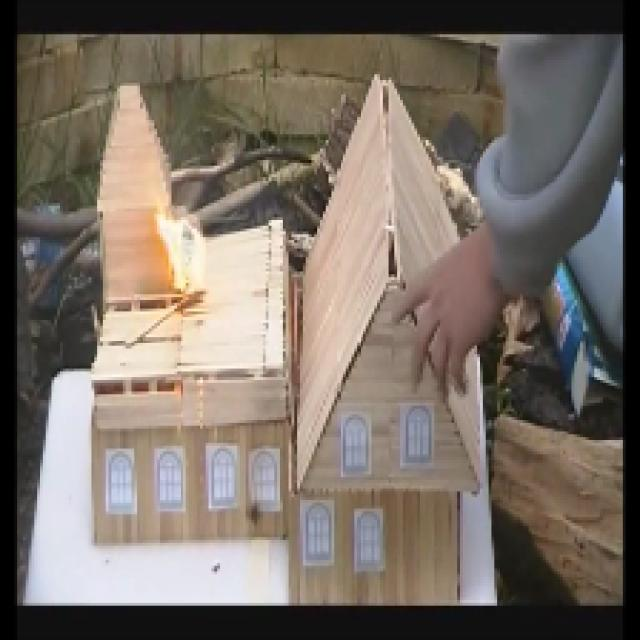fire: (157, 215, 209, 298)
